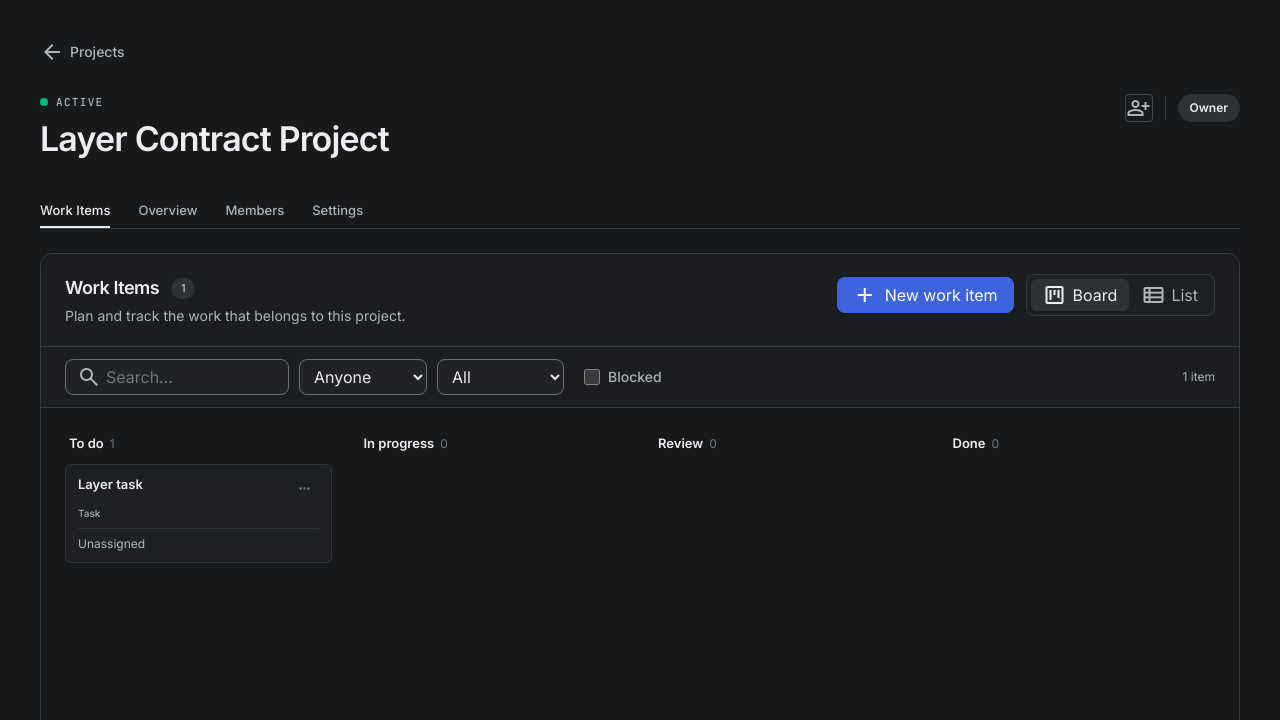
Test case: Work Item overlay layer ownership › renders the delete confirmation overlay on the overlay root, outside the route content and the inspector boundary, and keeps the inspector open on Cancel
The width and height of the screenshot is (1280, 720).
Click the button with aria-label "Open Layer task".
click(110, 484)  # box left=65, top=464, right=332, bottom=563
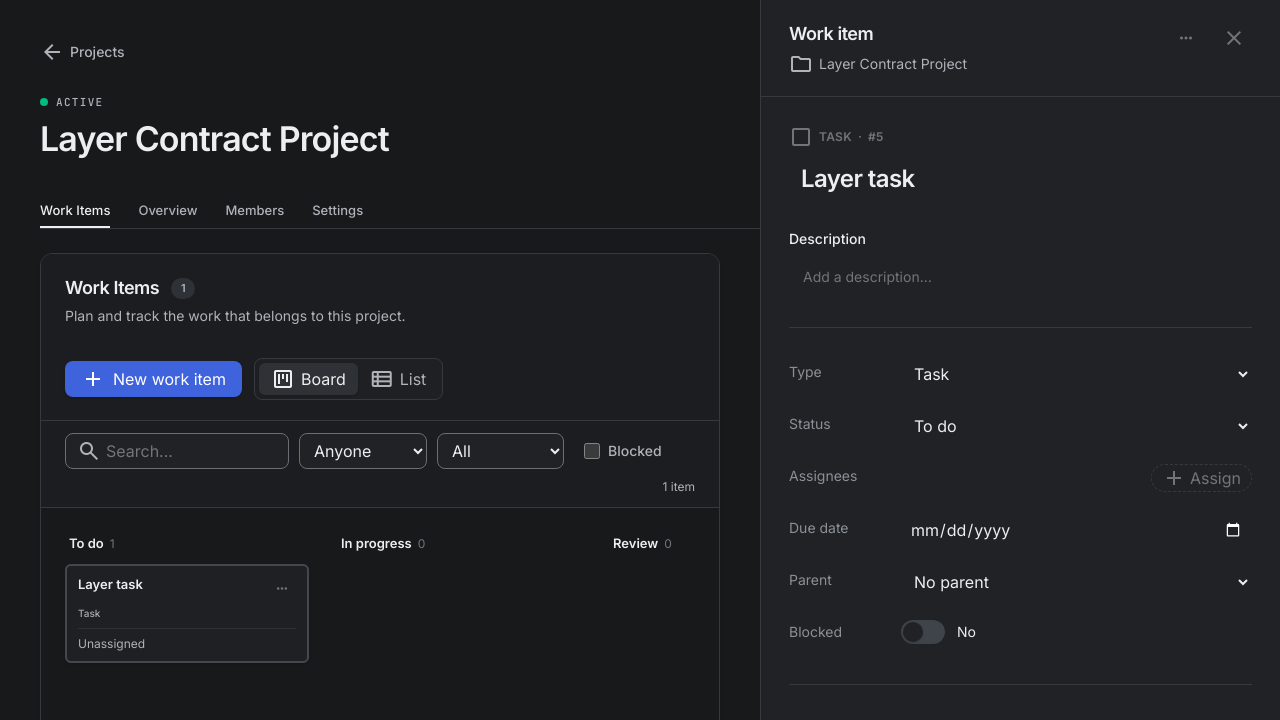
Click the 1st button named "Work item actions".
click(1186, 38)  # box left=1168, top=20, right=1204, bottom=56
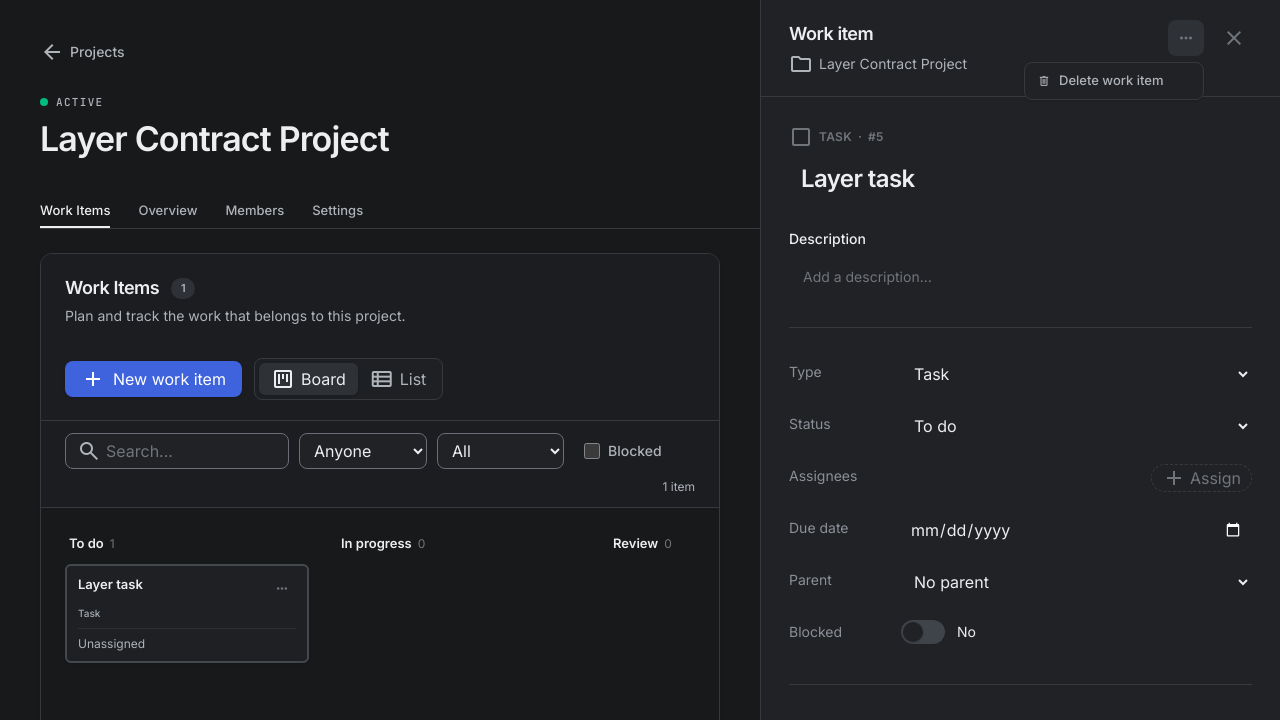
Expected: the menu item "Delete work item" is shown
Click the menu item "Delete work item".
click(1114, 81)  # box left=1029, top=67, right=1199, bottom=95
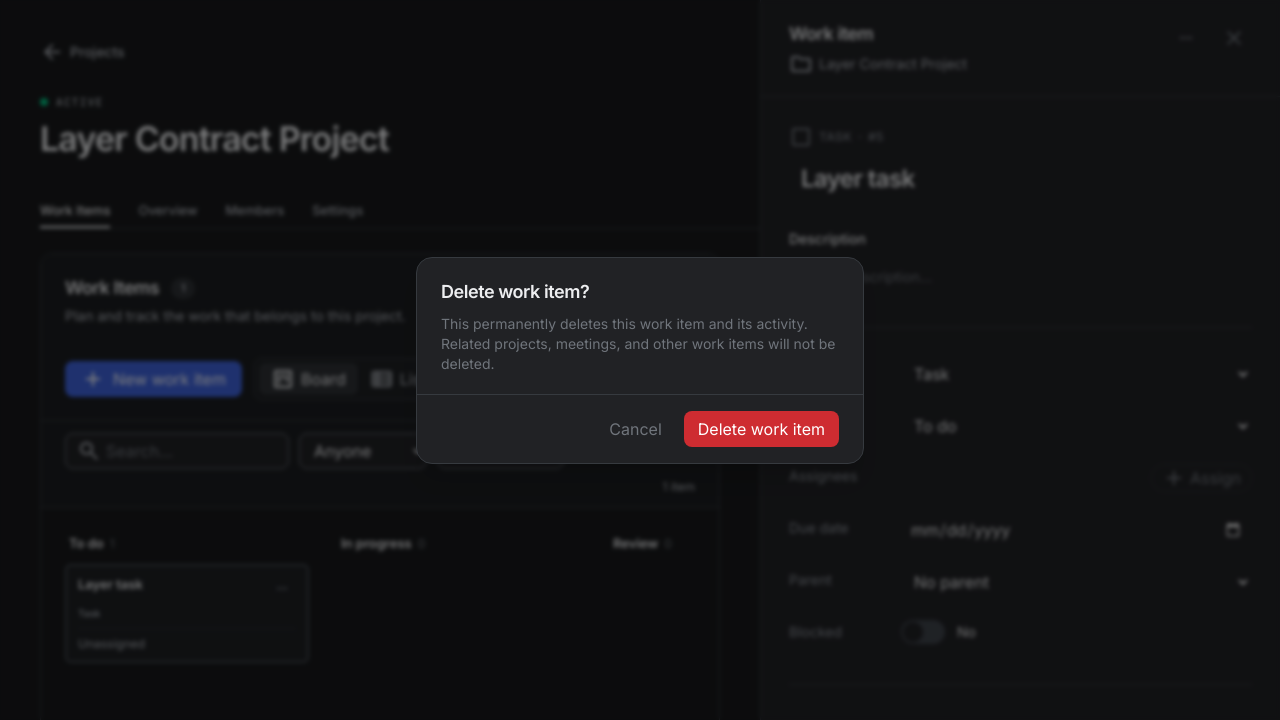
Expected: the heading "Delete work item?" is shown, left=441, top=280, right=589, bottom=302
Click the button "Cancel".
click(636, 428)  # box left=595, top=410, right=676, bottom=446
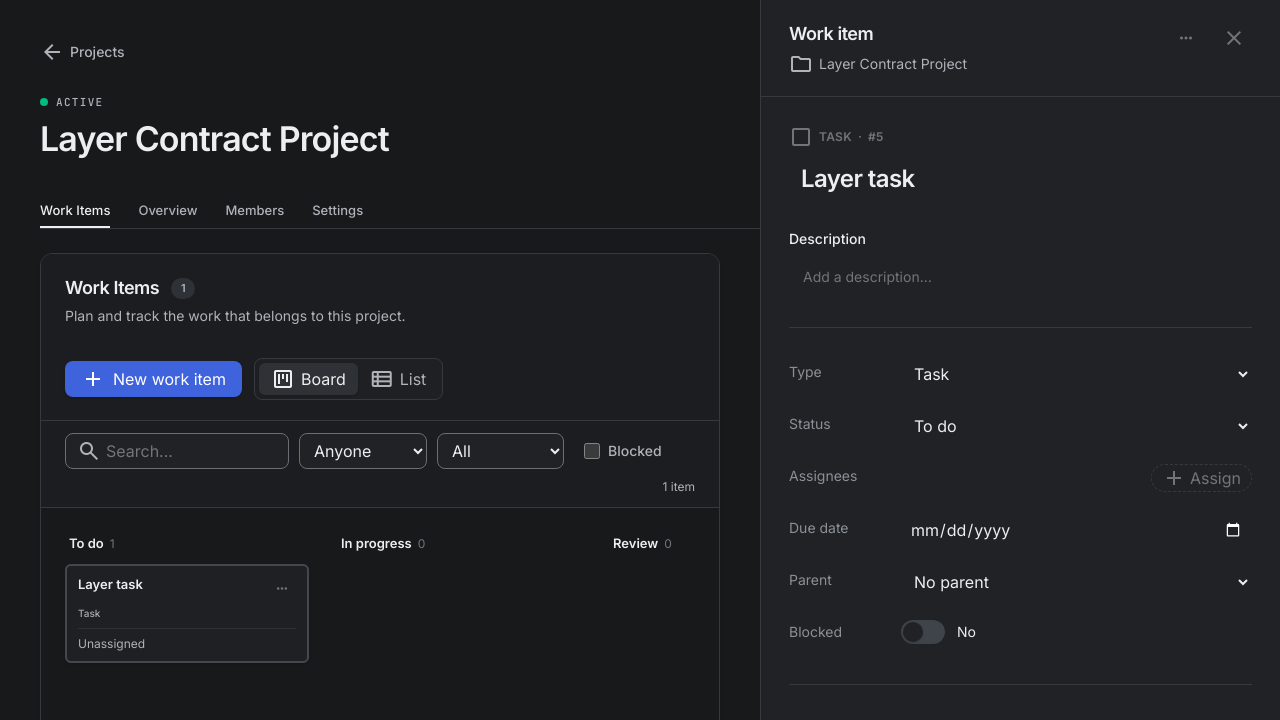
Expected: the element "Work item" is shown, left=760, top=0, right=1279, bottom=719
Expected: the heading "Delete work item?" is gone
